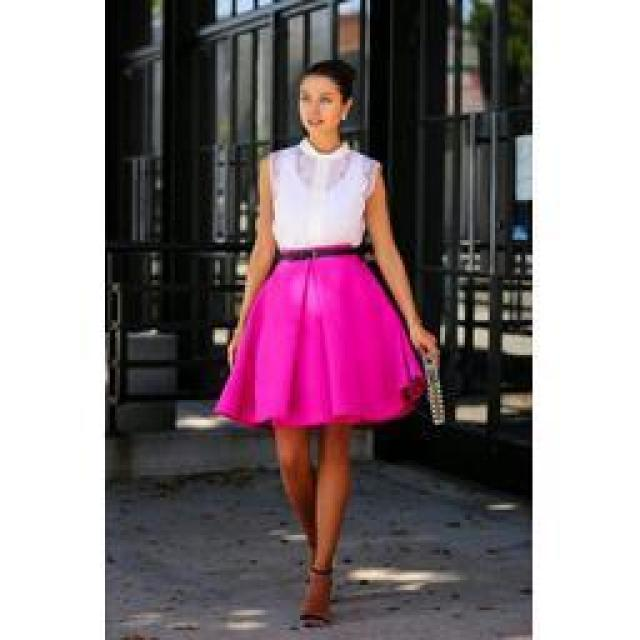shirt: (268, 137, 380, 255)
skirt: (214, 241, 424, 429)
